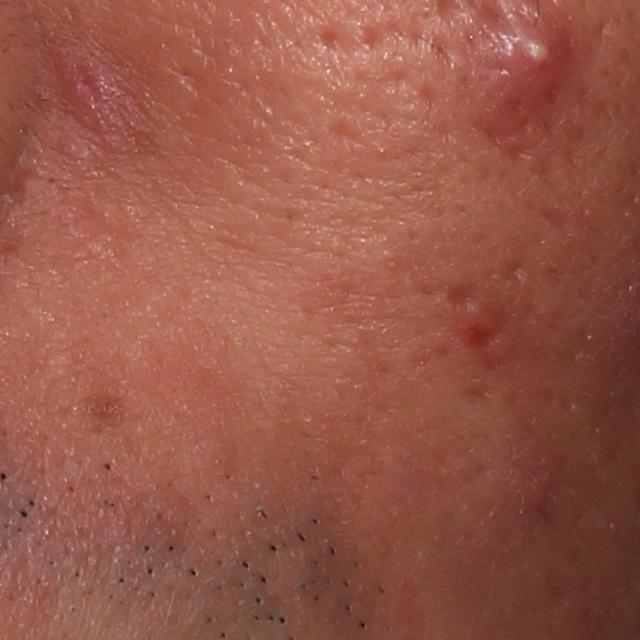atrophic_scar: (322, 112, 375, 155), (526, 201, 583, 239), (304, 25, 356, 60), (453, 319, 504, 353), (442, 279, 483, 314), (499, 255, 529, 285)
papule: (60, 40, 145, 148), (503, 444, 561, 519)
pustule: (463, 11, 567, 125)
